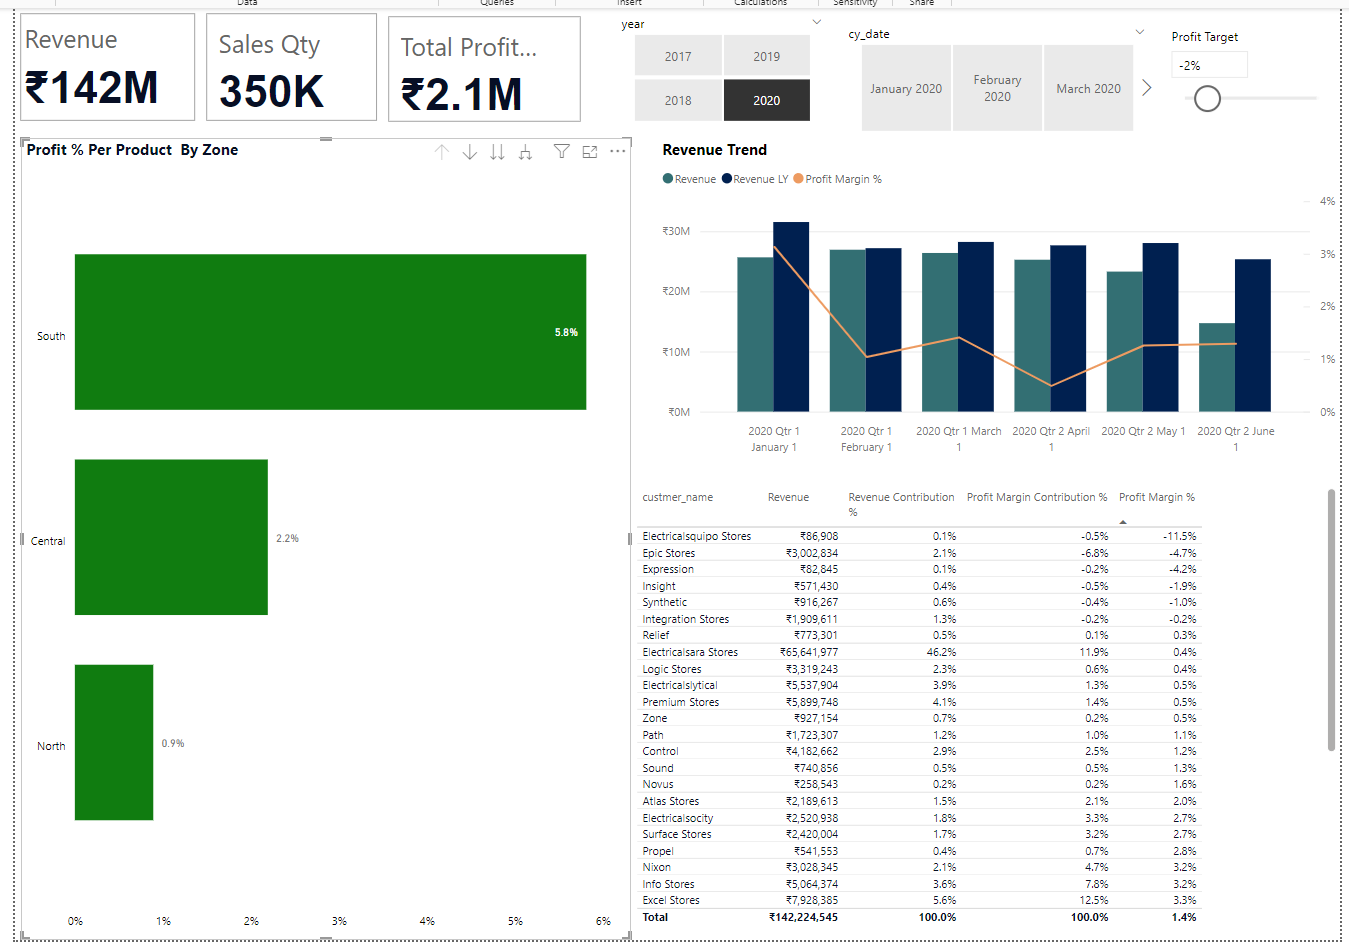

The dashboard page shown, as its layout file describes it:
{"tool":"powerbi","page":{"name":"Performance","canvas":[1280,900],"ordinal":2},"visuals":[{"type":"cardVisual","fields":{"Data":["Base_Measures.Revenue"]},"box":[0,0,179.6,114.9],"z":0},{"type":"cardVisual","fields":{"Data":["Base_Measures.Sales Qty"]},"box":[179.6,0,175.8,114.9],"z":1000},{"type":"slicer","fields":{"Values":["sales_date.year"]},"box":[572.6,1,219.2,114.9],"z":2000},{"type":"slicer","fields":{"Values":["sales_date.cy_date"]},"box":[791.8,10.6,311.9,114.9],"z":3000},{"type":"tableEx","title":"Top 5 Customers","fields":{"Values":["sales_customers.custmer_name","Base_Measures.Revenue","Base_Measures.Revenue Contribution %","Base_Measures.Profit Margin Contribution %","Base_Measures.Profit Margin %"]},"box":[594.8,458.7,685.6,430.7],"z":4000},{"type":"lineClusteredColumnComboChart","title":"Revenue Trend","fields":{"Category":["sales_date.cy_date.Variation.Date Hierarchy.Year","sales_date.cy_date.Variation.Date Hierarchy.Quarter","sales_date.cy_date.Variation.Date Hierarchy.Month","sales_date.cy_date.Variation.Date Hierarchy.Day"],"Y":["Base_Measures.Revenue","Base_Measures.Revenue LY"],"Y2":["Base_Measures.Profit Margin %"]},"box":[620,125.5,660.5,312.9],"z":5000},{"type":"cardVisual","fields":{"Data":["Base_Measures.Total Profit MArgin"]},"box":[355.4,2.9,196,112],"z":6000},{"type":"clusteredBarChart","title":"Profit % Per Product  By  Product Code","fields":{"Category":["sales_markets.zone","sales_customers.custmer_name","sales_products.product_code"],"Y":["Base_Measures.Profit Margin %"]},"box":[5.8,125.5,589.1,774.5],"z":7000},{"type":"slicer","fields":{"Values":["Profit Target 2.Profit Target"]},"box":[1103.8,13.5,176.7,102.4],"z":8000}]}

Visuals, with their boxes on the page's 1280x900 design canvas (x1, y1, x2, y2). These are canvas units, not pixel positions in the 1349x945 screenshot, which may show the page scaled, cropped or inside an application window:
cardVisual - Base_Measures.Revenue: BBox(0, 0, 180, 115)
cardVisual - Base_Measures.Sales Qty: BBox(180, 0, 355, 115)
slicer - sales_date.year: BBox(573, 1, 792, 116)
slicer - sales_date.cy_date: BBox(792, 11, 1104, 126)
"Top 5 Customers" tableEx: BBox(595, 459, 1280, 889)
"Revenue Trend" lineClusteredColumnComboChart: BBox(620, 126, 1280, 438)
cardVisual - Base_Measures.Total Profit MArgin: BBox(355, 3, 551, 115)
"Profit % Per Product  By  Product Code" clusteredBarChart: BBox(6, 126, 595, 900)
slicer - Profit Target 2.Profit Target: BBox(1104, 14, 1280, 116)
